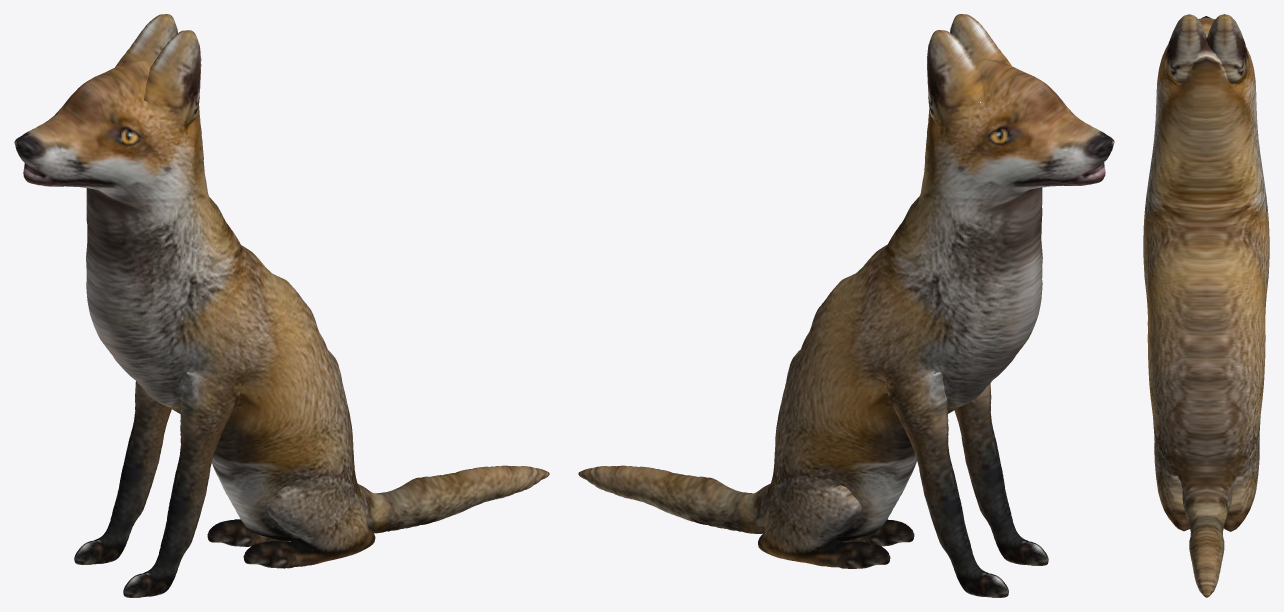
The model's file is fox.glb.
3 views of the same model, side by side, from view 1: azimuth 30°, elevation 25°; view 2: azimuth 150°, elevation 25°; view 3: azimuth 270°, elevation 25° (orthographic). The views are drawn at different scales.
Parts seen in each view (by area): view 1: mesh_0; view 2: mesh_0; view 3: mesh_0.
Part boxes in pixels (<box>): mesh_0: <box>14,14,549,597</box>; mesh_0: <box>578,14,1114,597</box>; mesh_0: <box>1143,14,1269,597</box>.
Bounding box in the file's own units: 6.91 × 6.91 × 1.76.
Materials: 1 (1 with a texture image).
